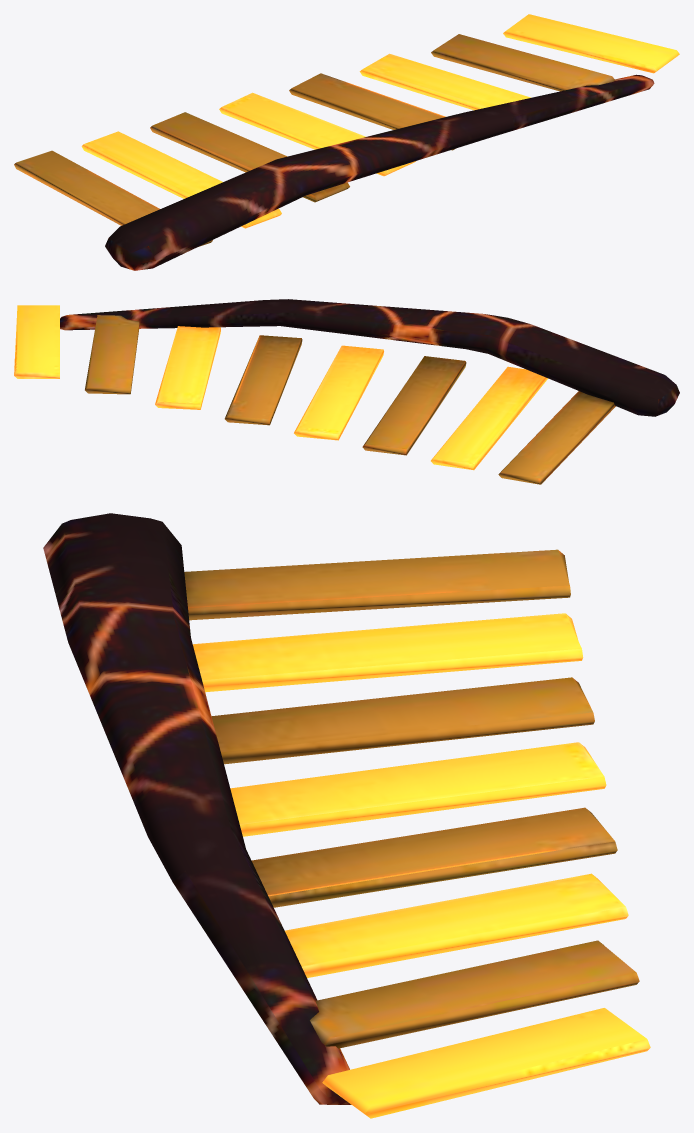
The model's file is u_harrierwingL_x_g.glb.
3 renders of one model, top to bottom at view 1: azimuth 30°, elevation 25°; view 2: azimuth 150°, elevation 25°; view 3: azimuth 270°, elevation 25°, orthographic. The views are drawn at different scales.
Visible parts, largest first — view 1: u_harrierwingL_x; view 2: u_harrierwingL_x; view 3: u_harrierwingL_x.
Boxes of the visible parts, left/top/right/bottom form: u_harrierwingL_x: left=14, top=14, right=679, bottom=270; u_harrierwingL_x: left=14, top=299, right=679, bottom=484; u_harrierwingL_x: left=43, top=513, right=650, bottom=1118.
Size of the model in its own units: 1.52 by 0.1476 by 0.6752.
Materials: 1 (1 with a texture image).
